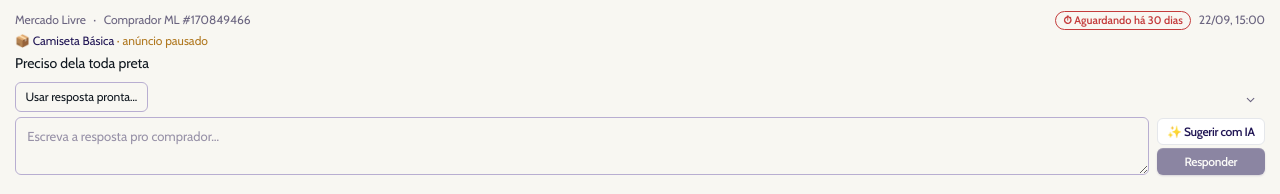
Test: ConversasMarketplace › Sugerir com IA: o texto cai no campo e NADA é enviado sem clicar em Responder
What coordinates should you click on to do the following:
click the button with test id "mkt-pergunta-ia"
I would click on:
 (1211, 132)
Its box is [1156,118,1265,145].
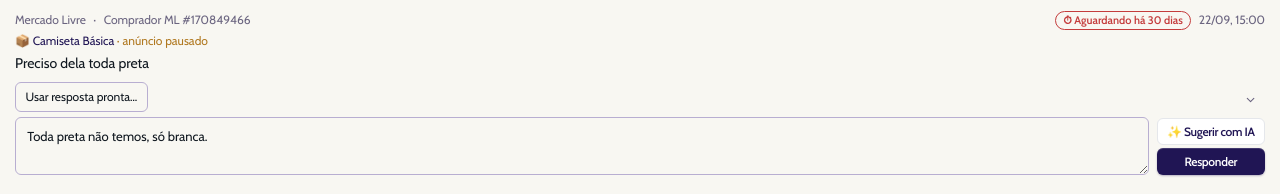
Expected: the text box with test id "mkt-pergunta-texto" holds "Toda preta não temos, só branca.", [15,118,1149,175]
